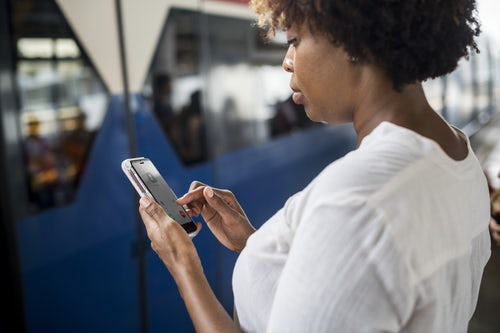phone: (118, 150, 198, 233)
